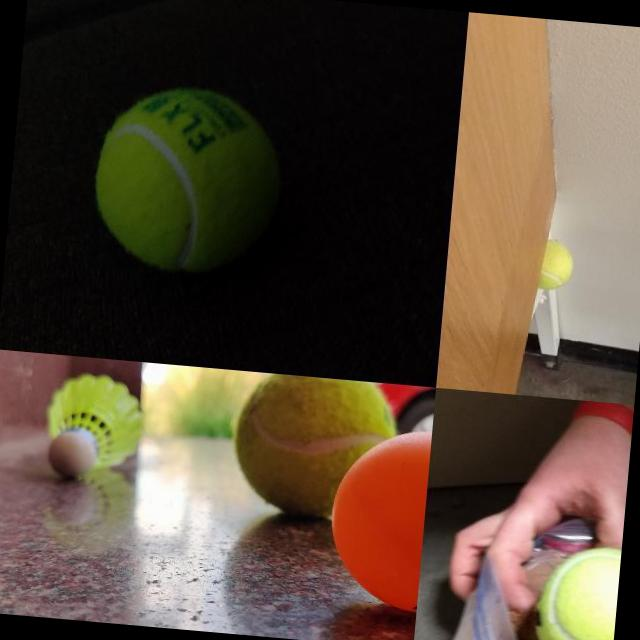Tennis Ball: (88, 79, 290, 279), (224, 370, 343, 521), (530, 542, 620, 640), (544, 238, 574, 292)
